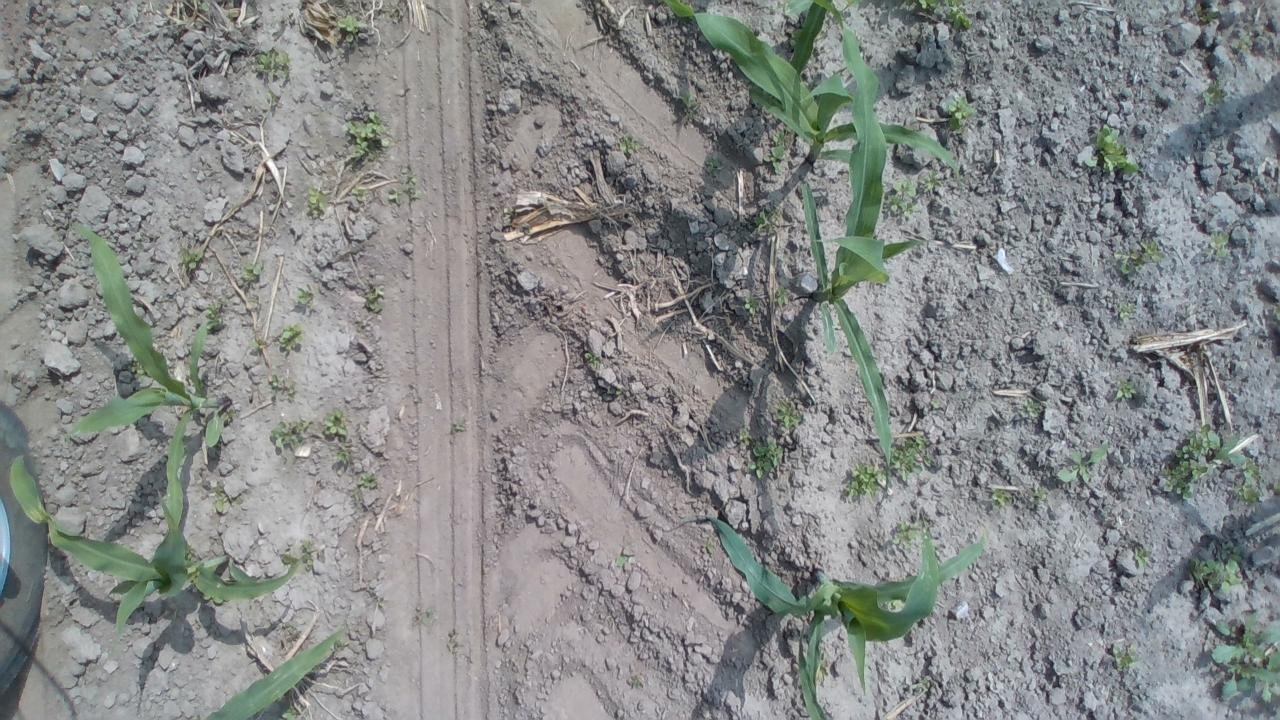Maize: (682, 510, 986, 696), (800, 0, 921, 461), (7, 454, 300, 641), (663, 0, 962, 175), (63, 222, 233, 529), (185, 623, 352, 720), (793, 607, 833, 720), (782, 0, 832, 77)
Weeds: (1213, 614, 1280, 706), (1162, 424, 1220, 500), (1187, 541, 1245, 596), (1084, 124, 1140, 175), (344, 110, 390, 162), (1058, 442, 1108, 485), (1114, 238, 1166, 275), (889, 434, 930, 480), (842, 460, 886, 499), (747, 437, 782, 478), (887, 180, 918, 219), (254, 49, 291, 81), (270, 419, 310, 448), (762, 130, 788, 174), (946, 96, 974, 134), (891, 518, 925, 548), (751, 205, 783, 234), (942, 0, 974, 28), (268, 373, 298, 402), (1220, 434, 1246, 465), (776, 401, 804, 429), (1112, 642, 1139, 671), (278, 322, 305, 350), (352, 472, 378, 501), (322, 409, 348, 435), (307, 187, 330, 216), (1238, 455, 1262, 482), (204, 300, 224, 332), (618, 133, 646, 155), (1208, 230, 1230, 258), (400, 169, 420, 199), (338, 14, 358, 42), (1234, 481, 1260, 502), (365, 286, 385, 313), (919, 169, 942, 192), (240, 262, 264, 284), (178, 248, 204, 268), (1116, 300, 1135, 326), (130, 354, 147, 382), (1202, 84, 1224, 105), (300, 538, 314, 571), (742, 295, 764, 316), (1114, 378, 1136, 399), (991, 487, 1013, 508), (1133, 546, 1152, 568), (816, 652, 829, 682), (679, 92, 700, 110), (214, 484, 227, 512), (292, 286, 312, 304), (1020, 398, 1040, 416), (789, 25, 806, 46), (706, 158, 727, 174), (912, 674, 931, 690), (418, 606, 434, 624), (776, 284, 789, 306), (1032, 486, 1048, 503), (584, 352, 600, 369), (280, 705, 298, 720), (334, 448, 352, 463), (1233, 36, 1250, 51), (388, 186, 402, 204), (203, 593, 224, 605), (738, 424, 750, 445), (264, 90, 278, 106), (352, 185, 366, 201), (280, 552, 298, 564), (193, 0, 210, 12), (915, 0, 940, 8), (887, 598, 903, 610), (183, 542, 194, 559), (248, 340, 262, 352), (702, 542, 716, 554), (221, 408, 232, 423), (616, 555, 630, 566), (452, 421, 466, 431), (1272, 479, 1280, 496), (1273, 304, 1280, 322), (332, 636, 342, 646), (930, 400, 939, 408), (632, 679, 639, 687), (616, 390, 622, 395)
